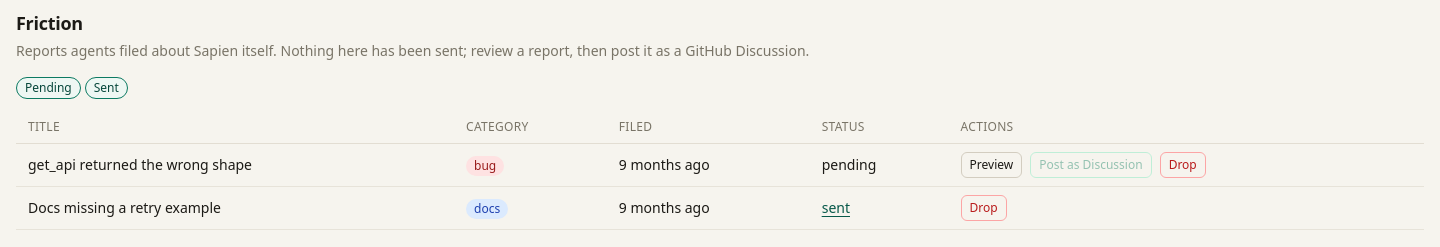
Test case: FrictionPage › filters out sent reports when the Sent chip is toggled off
This screenshot has width=1440, height=247.
Check: the text "Docs missing a retry example" is shown, box [16,186,454,230]
Click the button "Sent": [106, 88] box [85,77,128,99]
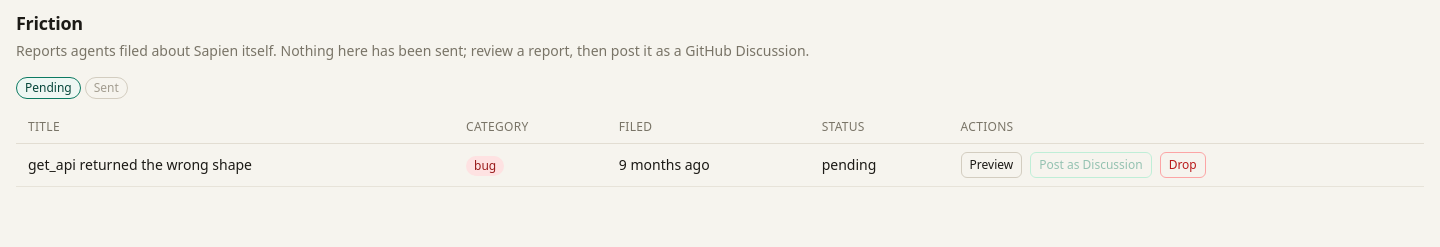
Check: the text "get_api returned the wrong shape" is shown, box [16,144,454,186]
Check: the text "Docs missing a retry example" is gone
